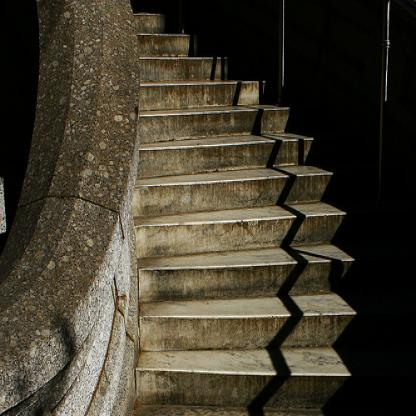stairs: (148, 122, 316, 415)
